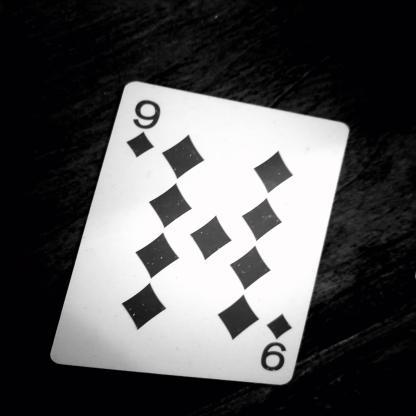9D: (108, 96, 176, 158), (262, 298, 302, 384)
